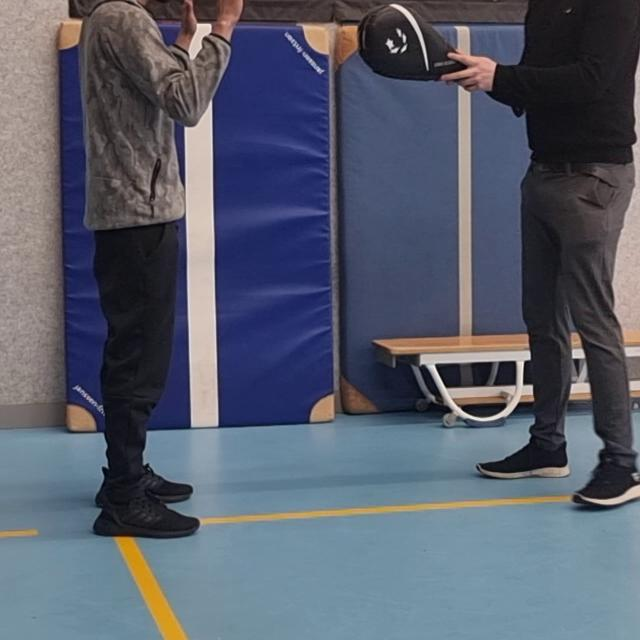paddle: (361, 2, 476, 84)
